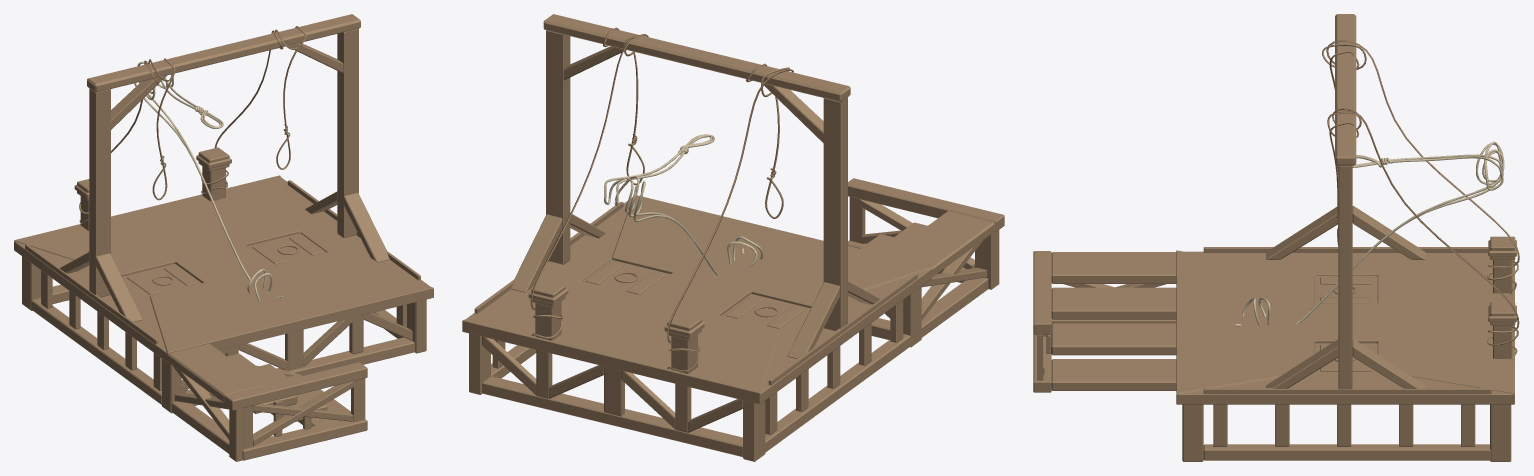
File: Gallows.glb
The picture shows the model from 3 angles, left to right: view 1: azimuth 30°, elevation 25°; view 2: azimuth 150°, elevation 25°; view 3: azimuth 270°, elevation 25°; orthographic projection. The views are drawn at different scales.
Visible parts, largest first — view 1: P_Cube.006, P_Cube.001, P_Cube.005, P_NurbsPath.003, P_Cube.004, P_NurbsPath.002, P_Cube.002; view 2: P_Cube.006, P_Cube.001, P_Cube.005, P_Cube.002, P_Cube.004, P_NurbsPath.003, P_NurbsPath.002; view 3: P_Cube.006, P_NurbsPath.002, P_Cube.004, P_NurbsPath.003, P_Cube.001, P_Cube.002, P_Cube.005.
Boxes of the visible parts, x1=… form: P_Cube.006: x1=14, y1=14, x2=433, y2=461; P_Cube.001: x1=122, y1=264, x2=201, y2=297; P_Cube.005: x1=247, y1=233, x2=326, y2=265; P_NurbsPath.003: x1=134, y1=61, x2=282, y2=300; P_Cube.004: x1=201, y1=26, x2=306, y2=193; P_NurbsPath.002: x1=147, y1=74, x2=283, y2=300; P_Cube.002: x1=79, y1=58, x2=175, y2=223; P_Cube.006: x1=462, y1=14, x2=1004, y2=461; P_Cube.001: x1=721, y1=294, x2=810, y2=331; P_Cube.005: x1=581, y1=260, x2=670, y2=295; P_Cube.002: x1=667, y1=63, x2=793, y2=372; P_Cube.004: x1=530, y1=27, x2=648, y2=338; P_NurbsPath.003: x1=614, y1=135, x2=763, y2=274; P_NurbsPath.002: x1=604, y1=134, x2=763, y2=275; P_Cube.006: x1=1033, y1=14, x2=1516, y2=461; P_NurbsPath.002: x1=1235, y1=149, x2=1504, y2=326; P_Cube.004: x1=1327, y1=108, x2=1519, y2=360; P_NurbsPath.003: x1=1235, y1=141, x2=1503, y2=326; P_Cube.001: x1=1314, y1=276, x2=1377, y2=303; P_Cube.002: x1=1322, y1=40, x2=1519, y2=295; P_Cube.005: x1=1314, y1=343, x2=1377, y2=371.
Size of the model in its own units: 4.81 by 4.88 by 6.89.
